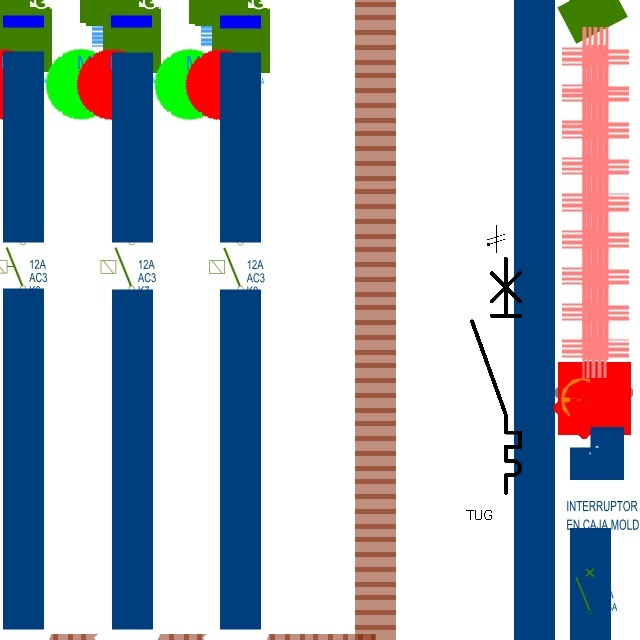interruptor_termomagnetico: (466, 252, 526, 498)
